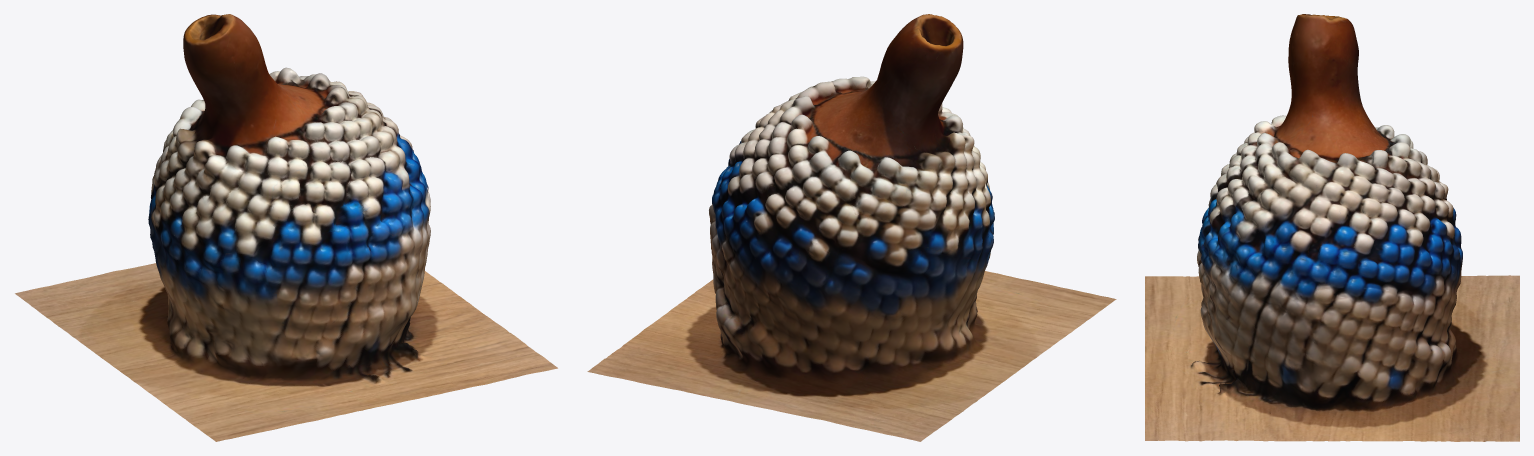
File: 3DModel.obj
The picture shows the model from 3 angles, left to right: view 1: azimuth 30°, elevation 25°; view 2: azimuth 150°, elevation 25°; view 3: azimuth 270°, elevation 25°; orthographic projection. The views are drawn at different scales.
Parts seen in each view (by area): view 1: 3DModel; view 2: 3DModel; view 3: 3DModel.
Boxes of the visible parts, <box> form: 3DModel: <box>15,14,557,441</box>; 3DModel: <box>587,14,1116,441</box>; 3DModel: <box>1145,14,1519,441</box>.
Bounding box in the file's own units: 0.6836 × 0.6548 × 0.6971.
1 material, 1 textured.
